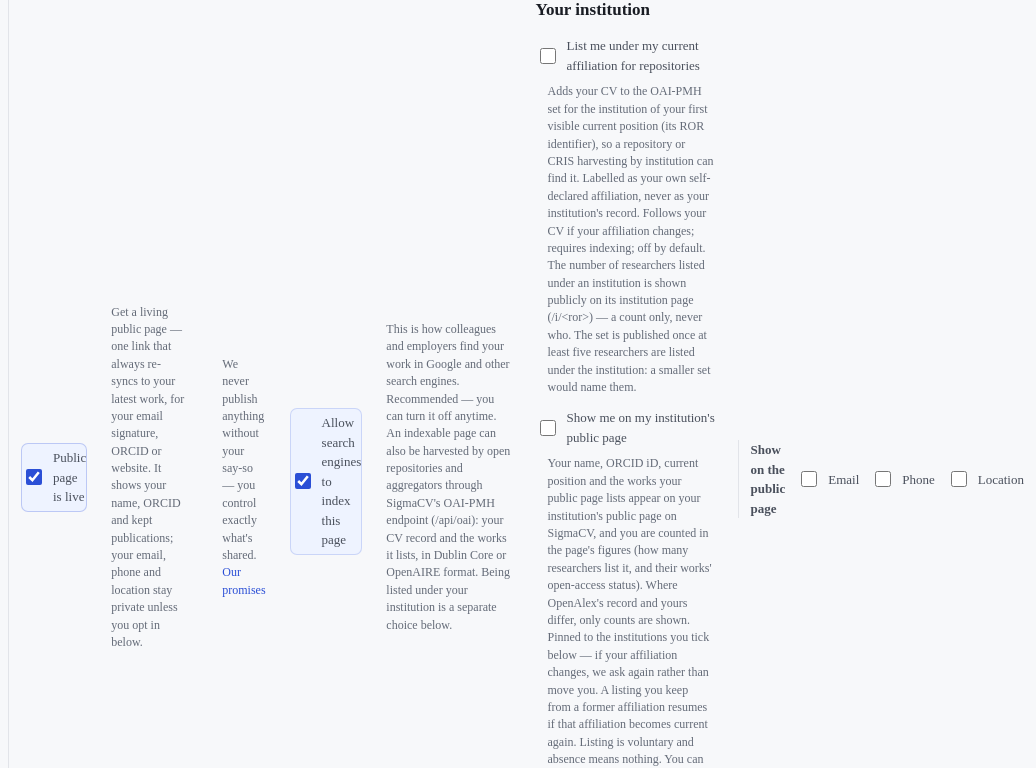
it: PublishControls — show me on my institution's page › a failed post while armed leaves the picker armed so the tick can be retried
This screenshot has width=1036, height=768.
Step 1. Click the checkbox labelled "Show me on my institution's public page" → (548, 428), box left=540, top=420, right=556, bottom=436
(page scrolled)
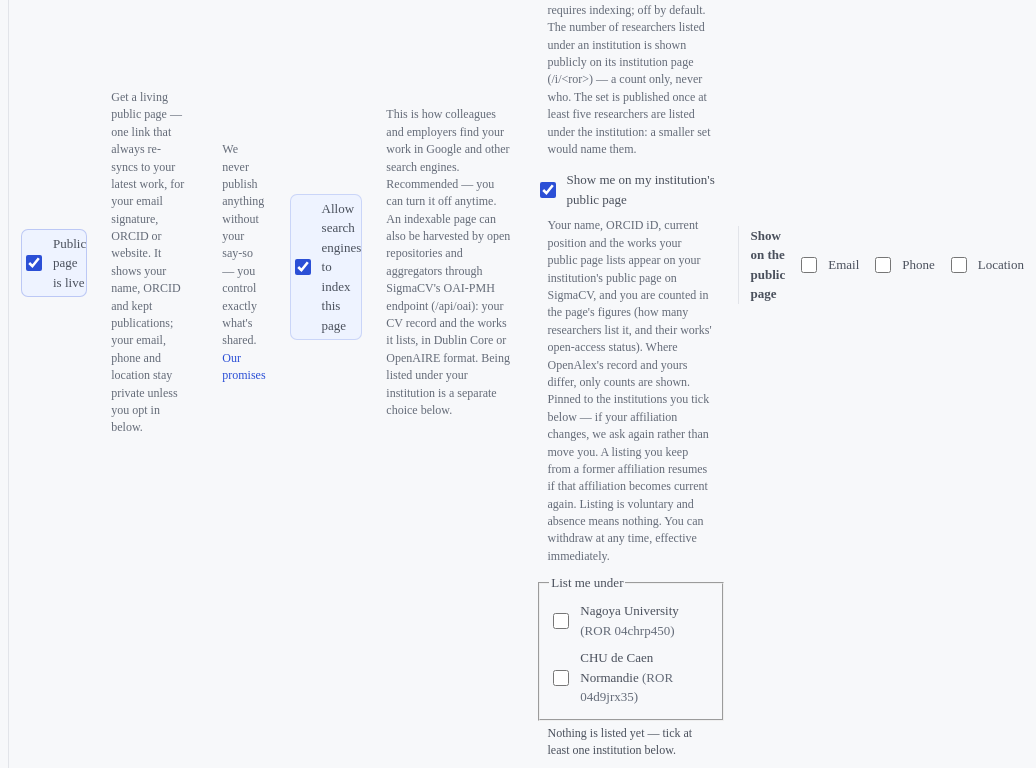
Step 2. Click the checkbox labelled "Nagoya University (ROR 04chrp450)" → (561, 621), box left=553, top=613, right=569, bottom=629
(page scrolled)
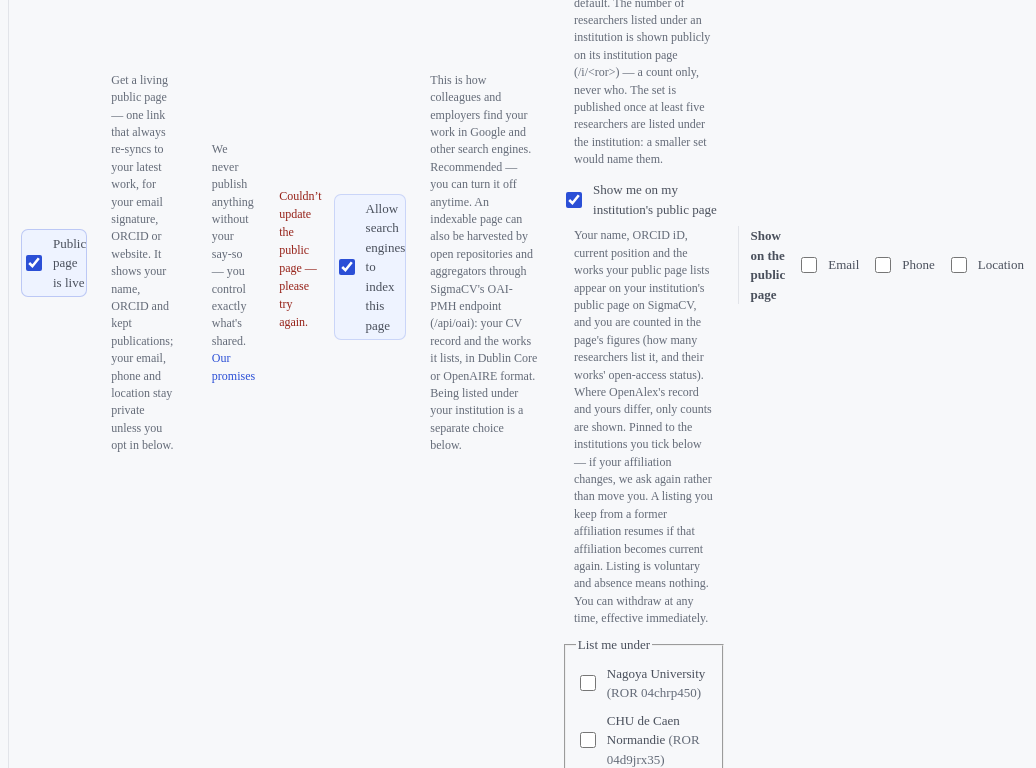
Check: the checkbox labelled "Show me on my institution's public page" is checked, box left=566, top=192, right=582, bottom=208
Check: the checkbox labelled "Nagoya University (ROR 04chrp450)" is enabled, box left=580, top=675, right=596, bottom=691
Check: the message reads "Couldn’t update the public page — please try again.", box left=279, top=189, right=322, bottom=329
